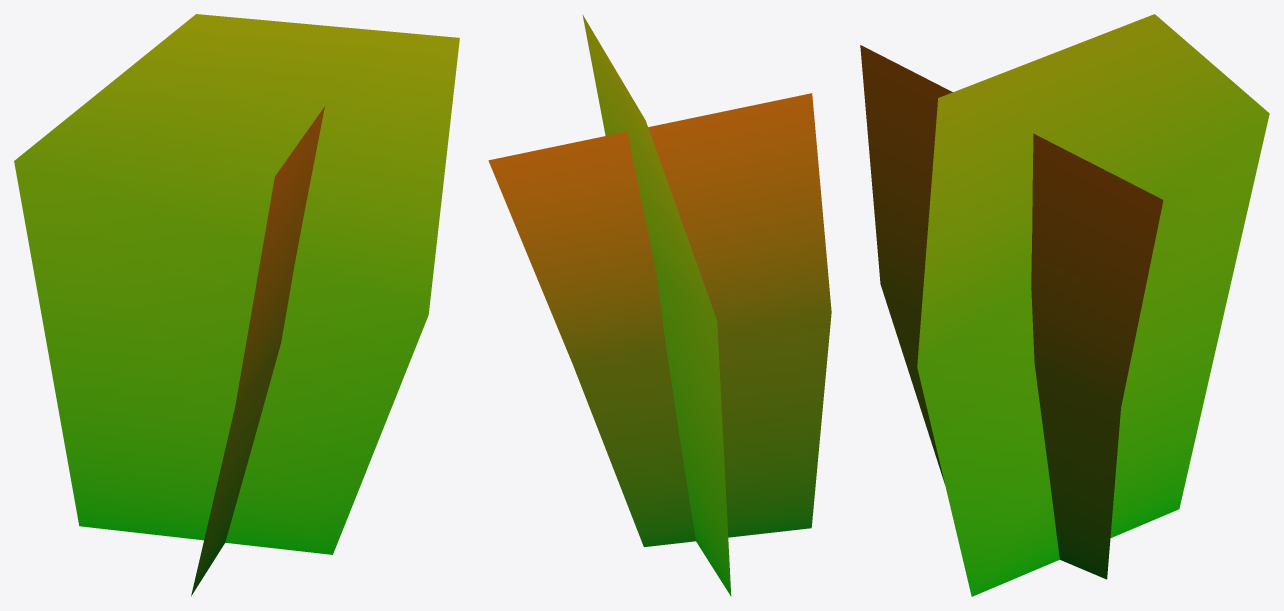
The model's file is Seaweed_LOD1_Var5_sdokF.fbx.
3 views of the same model, side by side, from view 1: azimuth 30°, elevation 25°; view 2: azimuth 150°, elevation 25°; view 3: azimuth 270°, elevation 25° (orthographic). The views are drawn at different scales.
Parts seen in each view (by area): view 1: merge1; view 2: merge1; view 3: merge1.
Boxes of the visible parts, left/top/right/bottom form: merge1: left=14, top=14, right=459, bottom=596; merge1: left=488, top=14, right=831, bottom=596; merge1: left=860, top=14, right=1269, bottom=596.
Bounding box in the file's own units: 14.87 × 23.61 × 15.65.
